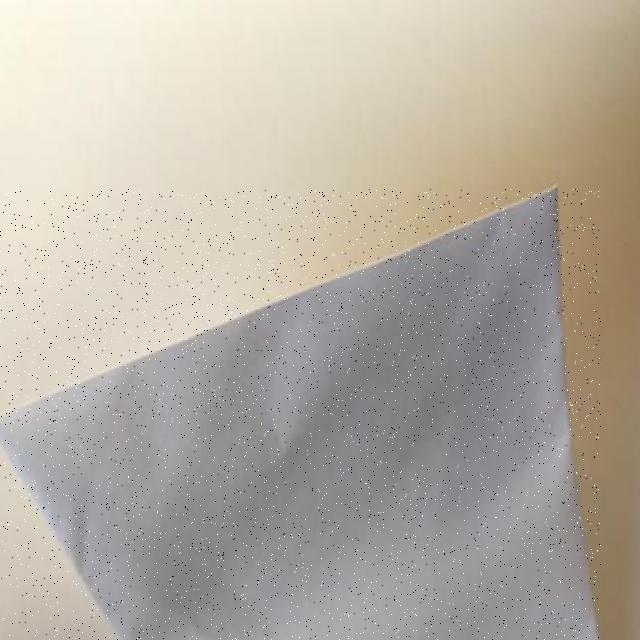paper: (0, 189, 601, 640)
